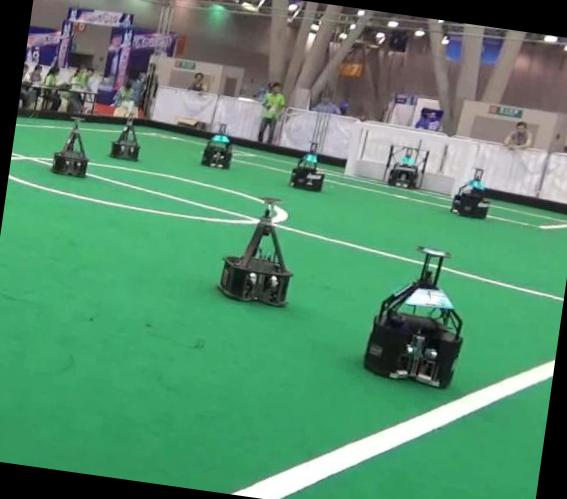goal: (450, 138, 473, 197), (343, 121, 362, 176)
robot: (363, 246, 461, 386), (218, 200, 290, 305), (382, 144, 428, 188), (50, 123, 87, 176), (450, 168, 488, 217), (288, 141, 323, 190), (201, 123, 230, 168), (108, 123, 138, 160)
